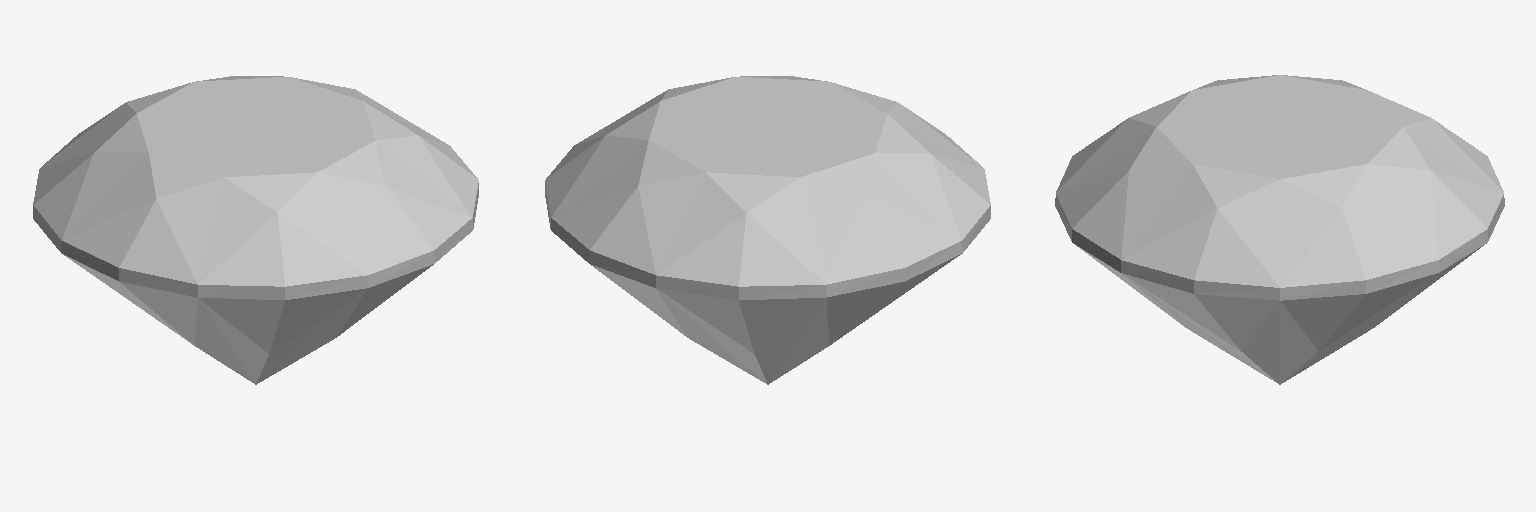
3 renders of one model, left to right at view 1: azimuth 30°, elevation 25°; view 2: azimuth 150°, elevation 25°; view 3: azimuth 270°, elevation 25°, orthographic.
Parts seen in each view (by area): view 1: Gemstone_01; view 2: Gemstone_01; view 3: Gemstone_01.
Part boxes in pixels (left/top/right/bottom): Gemstone_01: left=33, top=76, right=478, bottom=384; Gemstone_01: left=545, top=76, right=990, bottom=384; Gemstone_01: left=1055, top=75, right=1504, bottom=384.
Bounding box in the file's own units: 0.9373 × 0.593 × 0.9373.